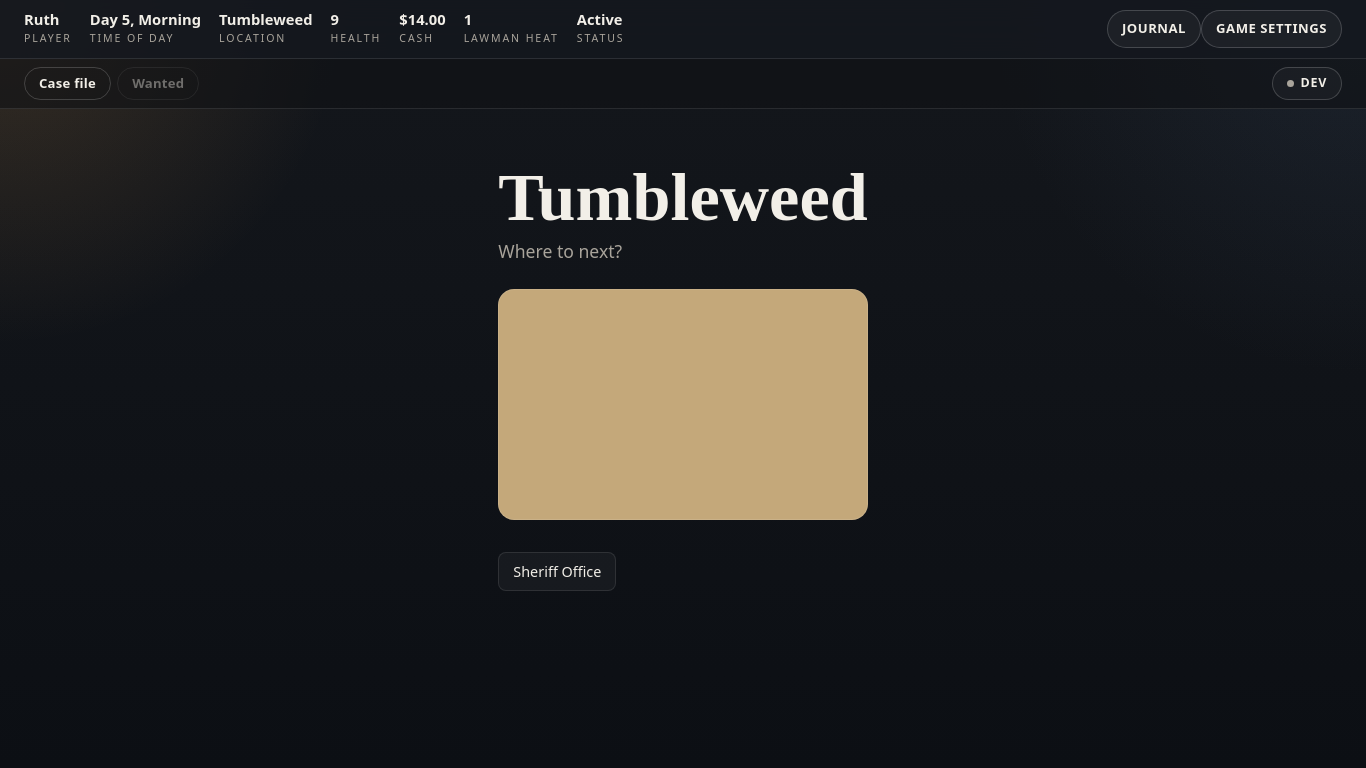
AppShell › shows a Dev toggle button that opens the developer overlay drawer
Expected: the header named "game status" is shown, x1=0 y1=0 x2=1365 y2=59
What coordinates should you click on to do the following:
click the button "Dev"
I would click on:
 (1307, 84)
Its box is x1=1272 y1=67 x2=1342 y2=100.
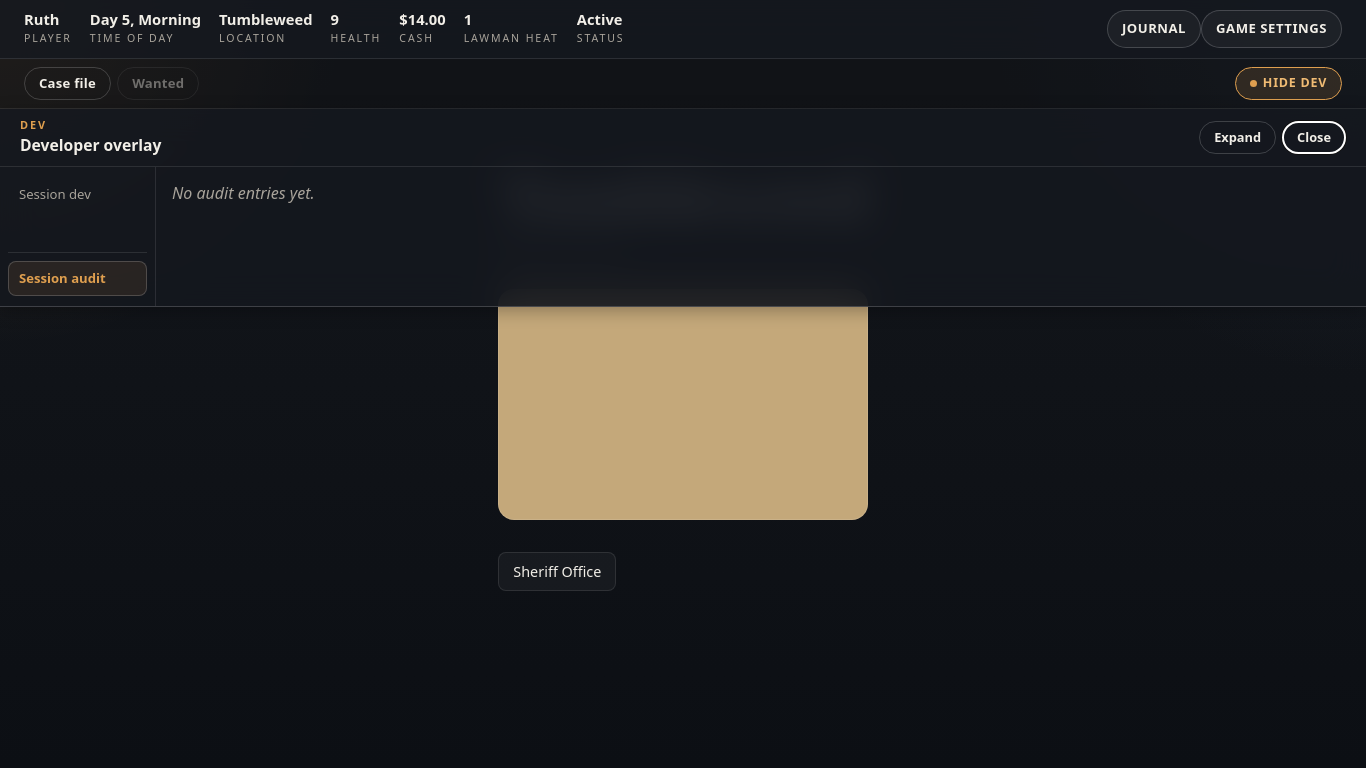
Expected: the element "Developer overlay" is shown, x1=0 y1=109 x2=1365 y2=307
